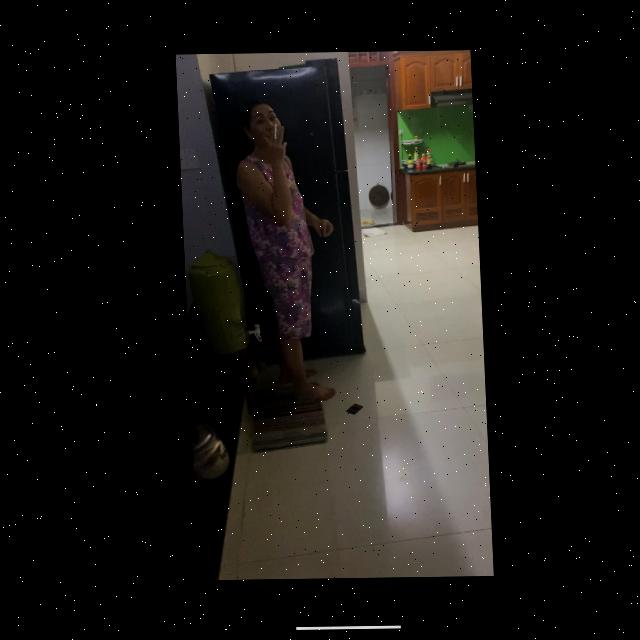cigarette: (272, 123, 276, 140)
